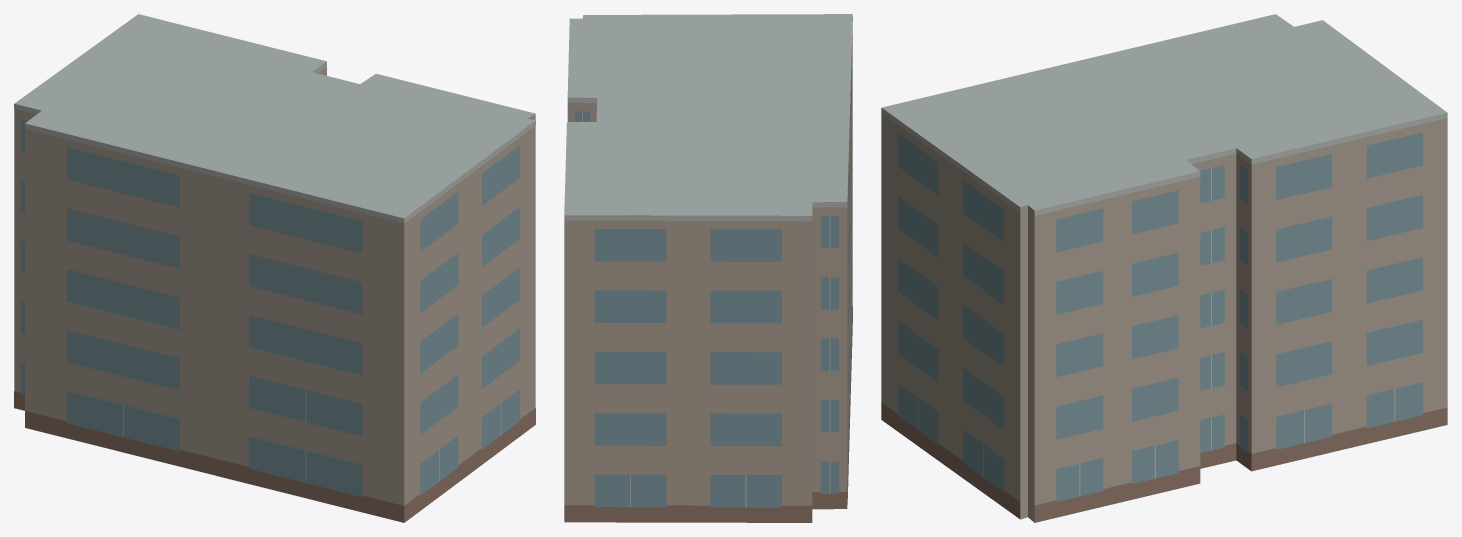
The model's file is survey-upis-32711047.glb.
3 views of the same model, side by side, from view 1: azimuth 30°, elevation 25°; view 2: azimuth 150°, elevation 25°; view 3: azimuth 270°, elevation 25° (orthographic). The views are drawn at different scales.
Visible parts, largest first — view 1: survey-upis-32711047.tmp; view 2: survey-upis-32711047.tmp; view 3: survey-upis-32711047.tmp.
Boxes of the visible parts, left/top/right/bottom form: survey-upis-32711047.tmp: left=14, top=14, right=535, bottom=522; survey-upis-32711047.tmp: left=564, top=14, right=852, bottom=522; survey-upis-32711047.tmp: left=881, top=14, right=1447, bottom=522.
Size of the model in its own units: 19.06 by 14.1 by 23.18.
